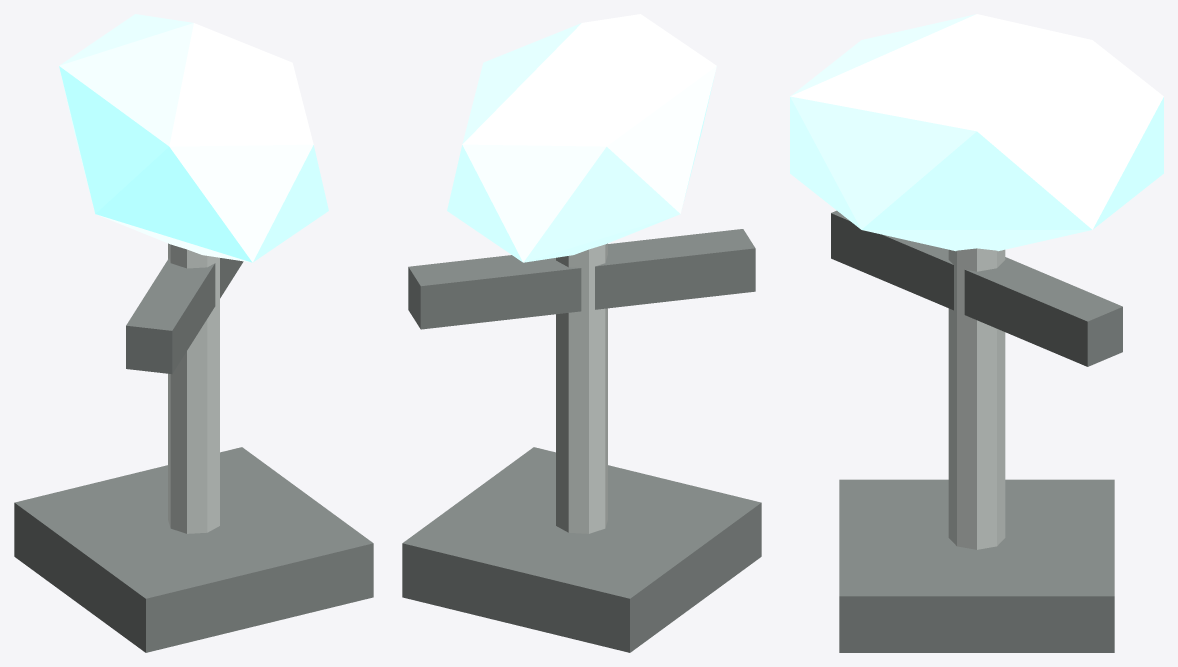
File: sanctuaryBeacon.glb
3 renders of one model, left to right at view 1: azimuth 30°, elevation 25°; view 2: azimuth 150°, elevation 25°; view 3: azimuth 270°, elevation 25°, orthographic. The views are drawn at different scales.
Visible parts, largest first — view 1: BeaconCrystal, LightBase, LightPost, BeaconRing; view 2: BeaconCrystal, LightBase, BeaconRing, LightPost; view 3: BeaconCrystal, LightBase, BeaconRing, LightPost.
Part boxes in pixels (x1=…): BeaconCrystal: x1=59, y1=14, x2=328, y2=262; LightBase: x1=14, y1=447, x2=373, y2=652; LightPost: x1=168, y1=243, x2=219, y2=533; BeaconRing: x1=126, y1=258, x2=243, y2=373; BeaconCrystal: x1=447, y1=14, x2=716, y2=262; LightBase: x1=402, y1=447, x2=761, y2=652; BeaconRing: x1=408, y1=229, x2=755, y2=329; LightPost: x1=556, y1=243, x2=607, y2=533; BeaconCrystal: x1=790, y1=14, x2=1163, y2=251; LightBase: x1=839, y1=479, x2=1114, y2=652; BeaconRing: x1=831, y1=210, x2=1122, y2=366; LightPost: x1=948, y1=248, x2=1005, y2=549.
Size of the model in its own units: 0.4667 by 1.02 by 0.5971.
